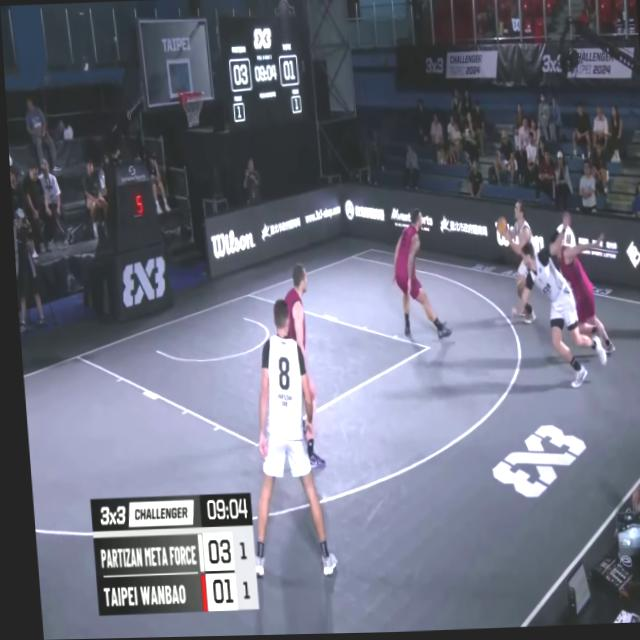ball: (491, 216, 505, 241)
hoop: (178, 89, 204, 131)
player: (221, 295, 331, 587), (257, 255, 321, 488), (518, 216, 585, 407), (549, 218, 608, 360), (384, 210, 445, 347), (495, 202, 535, 329)
